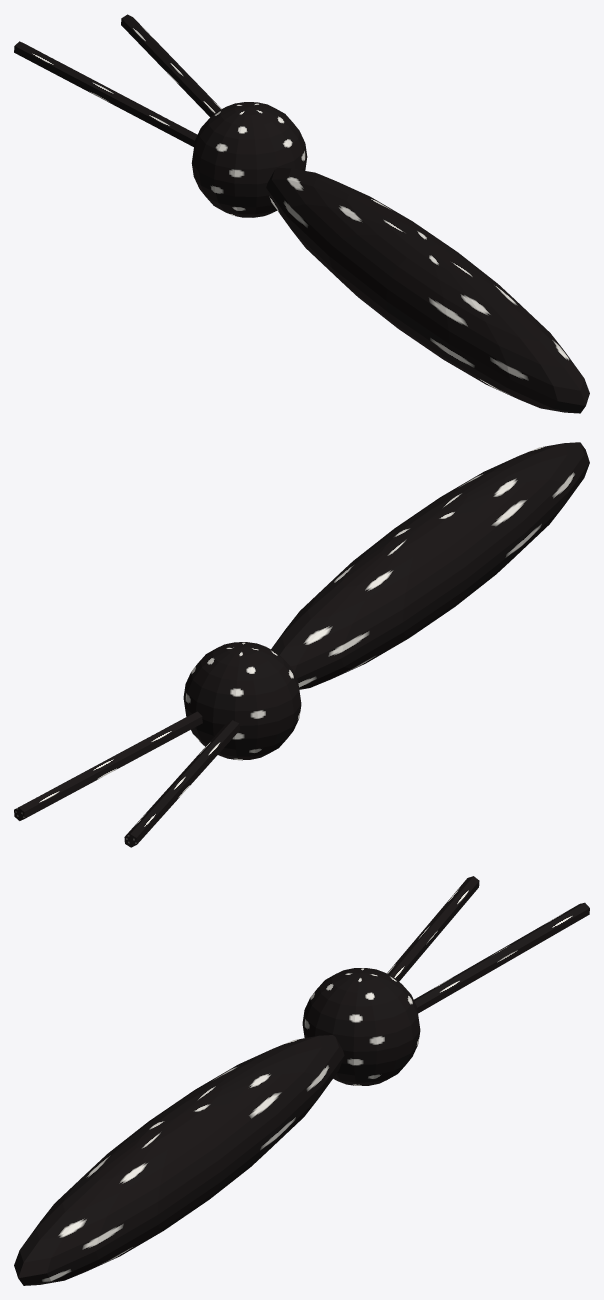
Rendered from cuerpo.obj.
The picture shows the model from 3 angles, top to bottom: view 1: azimuth 30°, elevation 25°; view 2: azimuth 150°, elevation 25°; view 3: azimuth 330°, elevation 25°; orthographic projection. The views are drawn at different scales.
Visible parts, largest first — view 1: Cuerpo; view 2: Cuerpo; view 3: Cuerpo.
Boxes of the visible parts, x1,y1,x2,y2 form: Cuerpo: [14, 14, 589, 413]; Cuerpo: [14, 442, 589, 847]; Cuerpo: [14, 876, 589, 1285].
Size of the model in its own units: 0.2848 by 0.24 by 2.09.
